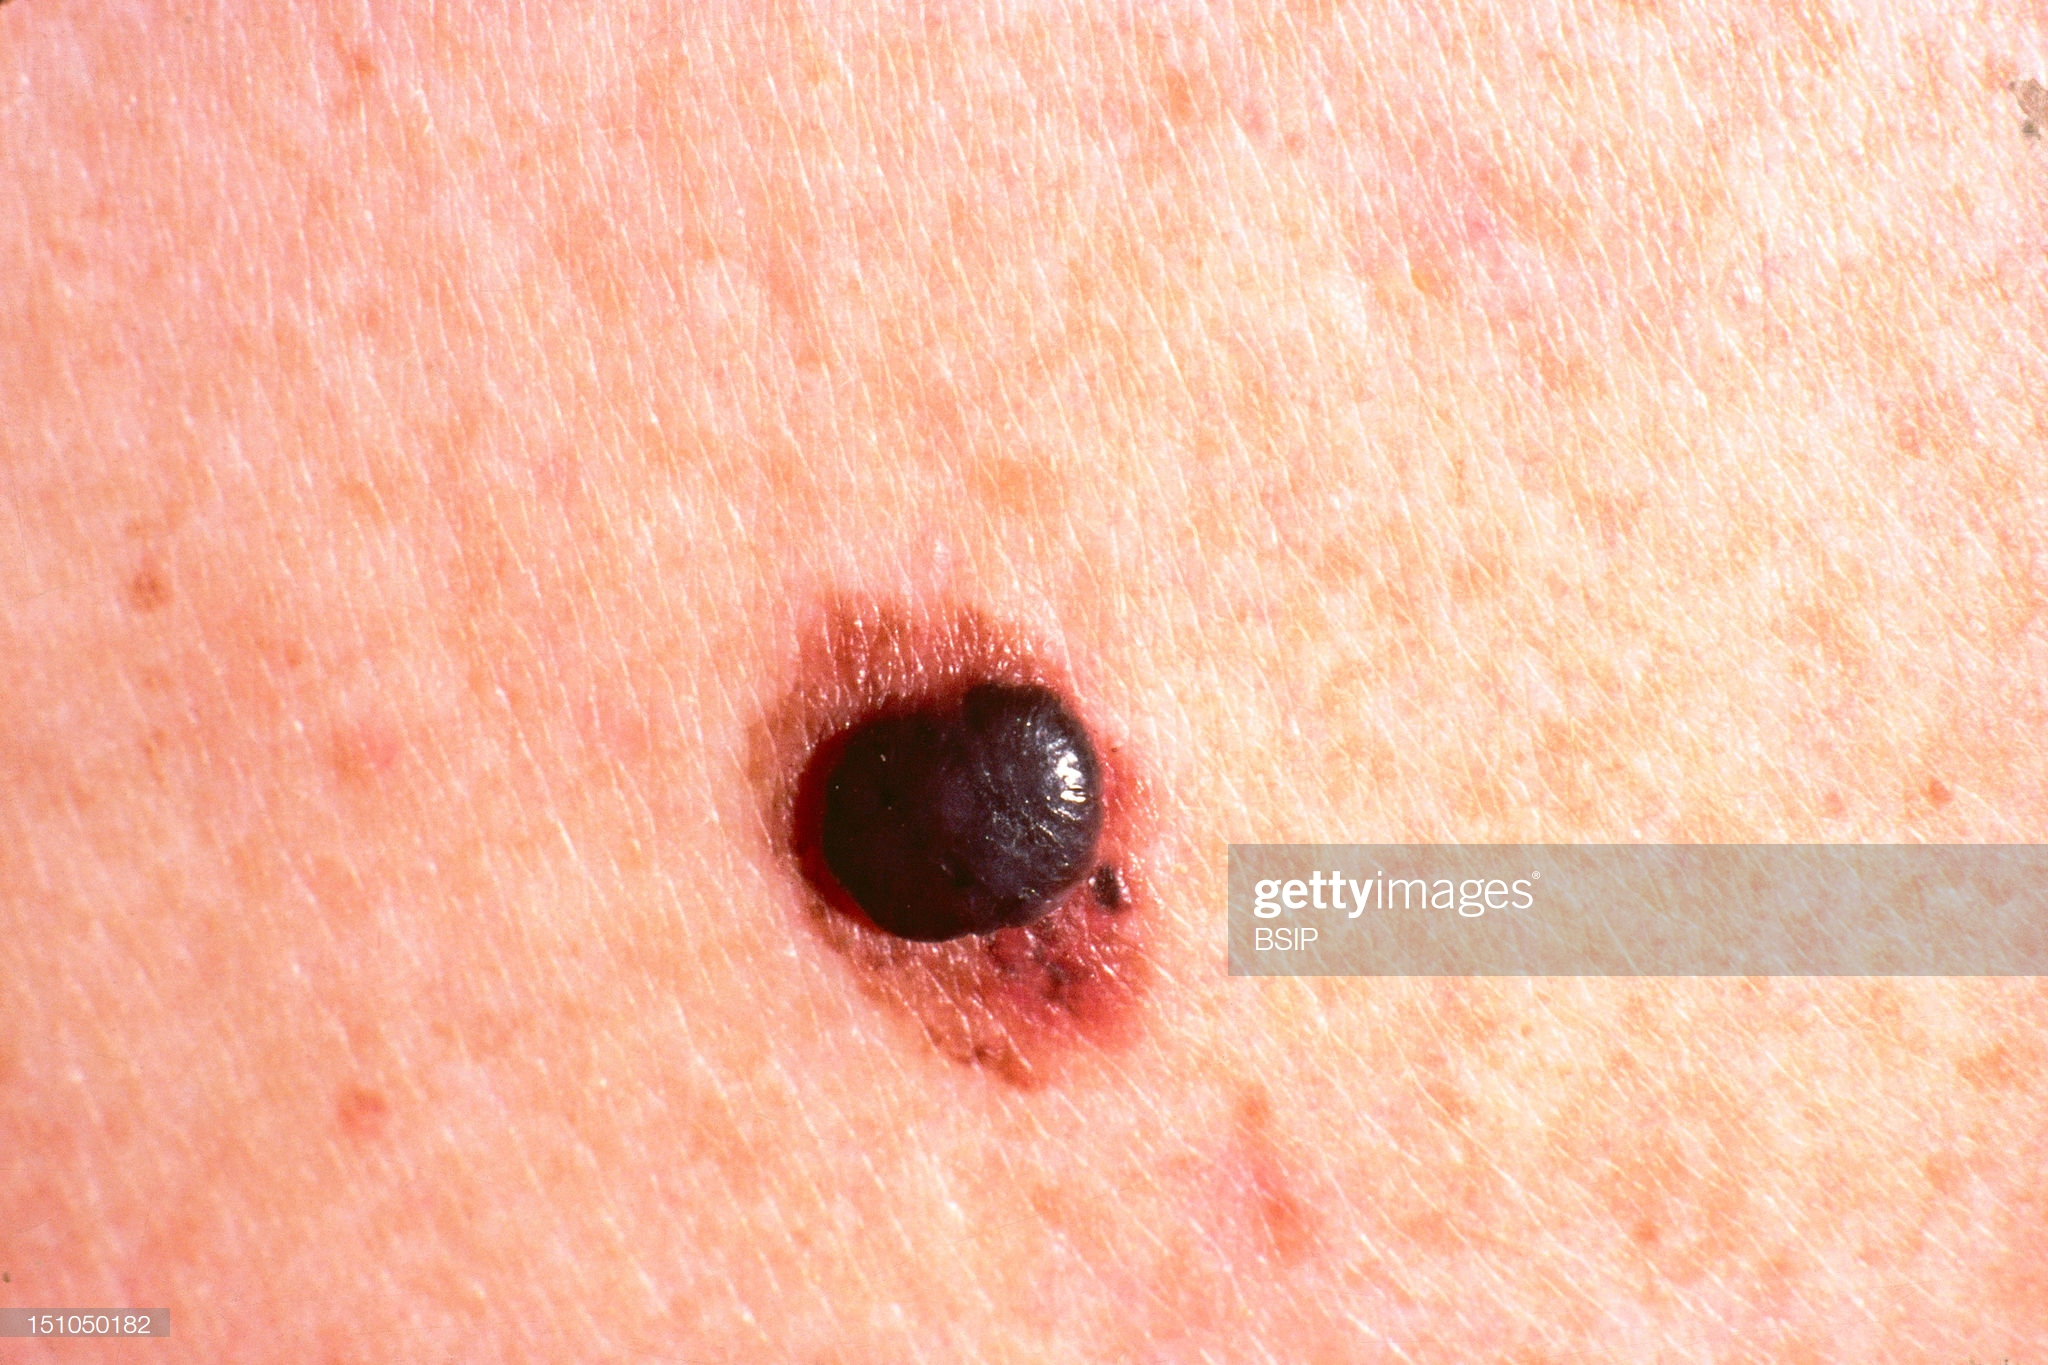melanoma: (623, 550, 1195, 1082)
